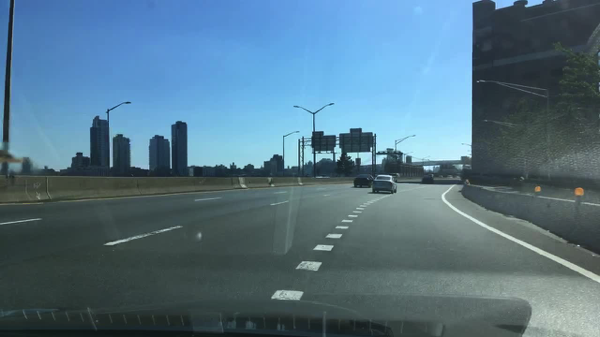car: (371, 174, 397, 193), (352, 173, 373, 188), (421, 176, 433, 183), (390, 172, 399, 177), (426, 173, 432, 177), (446, 175, 452, 178), (437, 175, 441, 178), (452, 176, 460, 177)
traffic sign: (339, 132, 372, 152), (311, 135, 335, 151), (350, 127, 363, 133), (312, 132, 323, 135)
